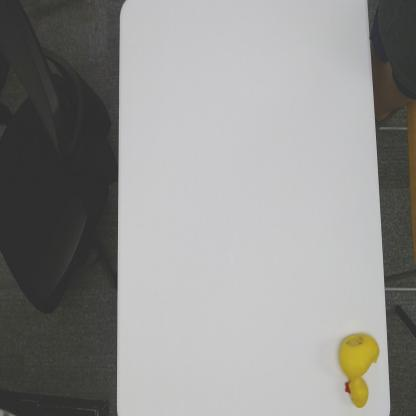Duck: (338, 332, 381, 410)
